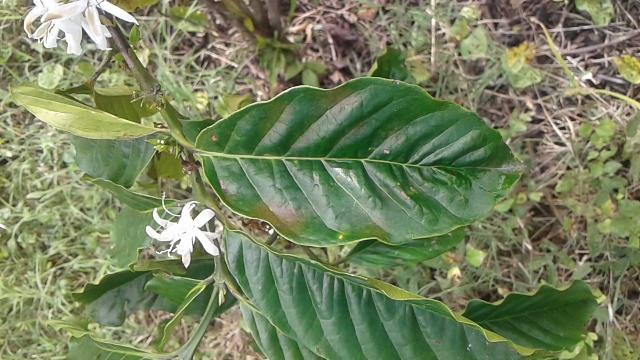rust_level_1: (197, 78, 522, 250)
